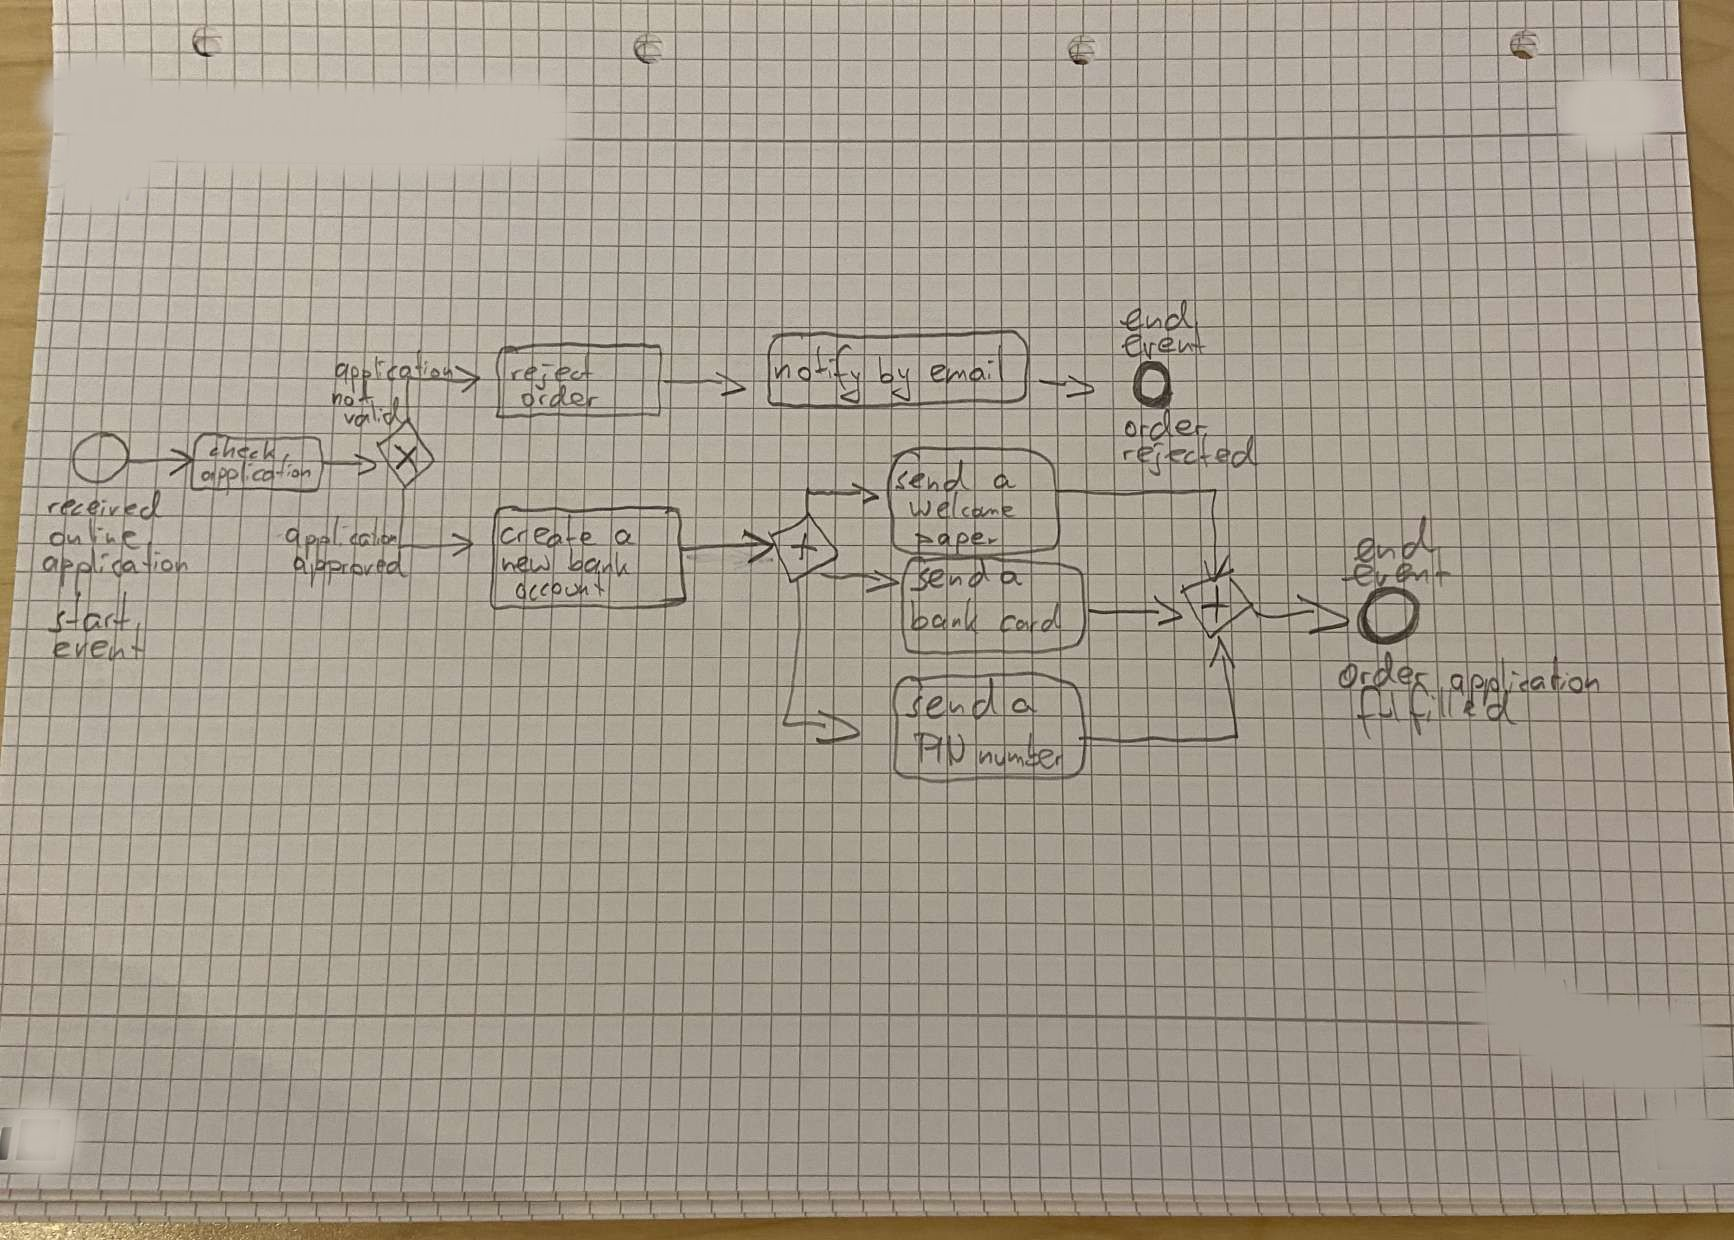PIN: (911, 727, 968, 772)
a: (1007, 690, 1040, 723), (992, 560, 1025, 592), (988, 464, 1017, 498), (607, 521, 637, 548)
account: (514, 576, 613, 603)
application: (34, 544, 195, 585), (1444, 659, 1602, 699), (326, 345, 460, 391), (280, 519, 399, 554), (199, 462, 315, 493)
approved: (290, 556, 409, 585)
bank: (910, 595, 990, 640), (566, 552, 631, 578)
by: (871, 350, 922, 407)
card: (999, 603, 1072, 643)
check: (204, 433, 285, 466)
create: (497, 515, 605, 553)
email: (923, 344, 1015, 392)
end: (1349, 517, 1439, 564), (1114, 293, 1196, 331)
event: (1346, 558, 1460, 595), (40, 635, 162, 668), (1123, 327, 1208, 357)
fulfilled: (1356, 687, 1526, 743)
new: (499, 548, 562, 578)
not: (326, 384, 380, 411)
notify: (768, 335, 871, 405)
number: (972, 731, 1080, 777)
online: (38, 517, 152, 549)
order: (1334, 647, 1435, 690), (1121, 416, 1211, 444), (519, 385, 601, 413)
paper: (914, 523, 1003, 556)
received: (35, 487, 177, 526)
reject: (509, 352, 596, 391)
rejected: (1118, 442, 1258, 483)
send: (909, 683, 999, 726), (910, 560, 999, 596), (890, 462, 976, 498)
start: (47, 593, 140, 636)
valid: (333, 407, 409, 435)
welcome: (906, 490, 1019, 527)
